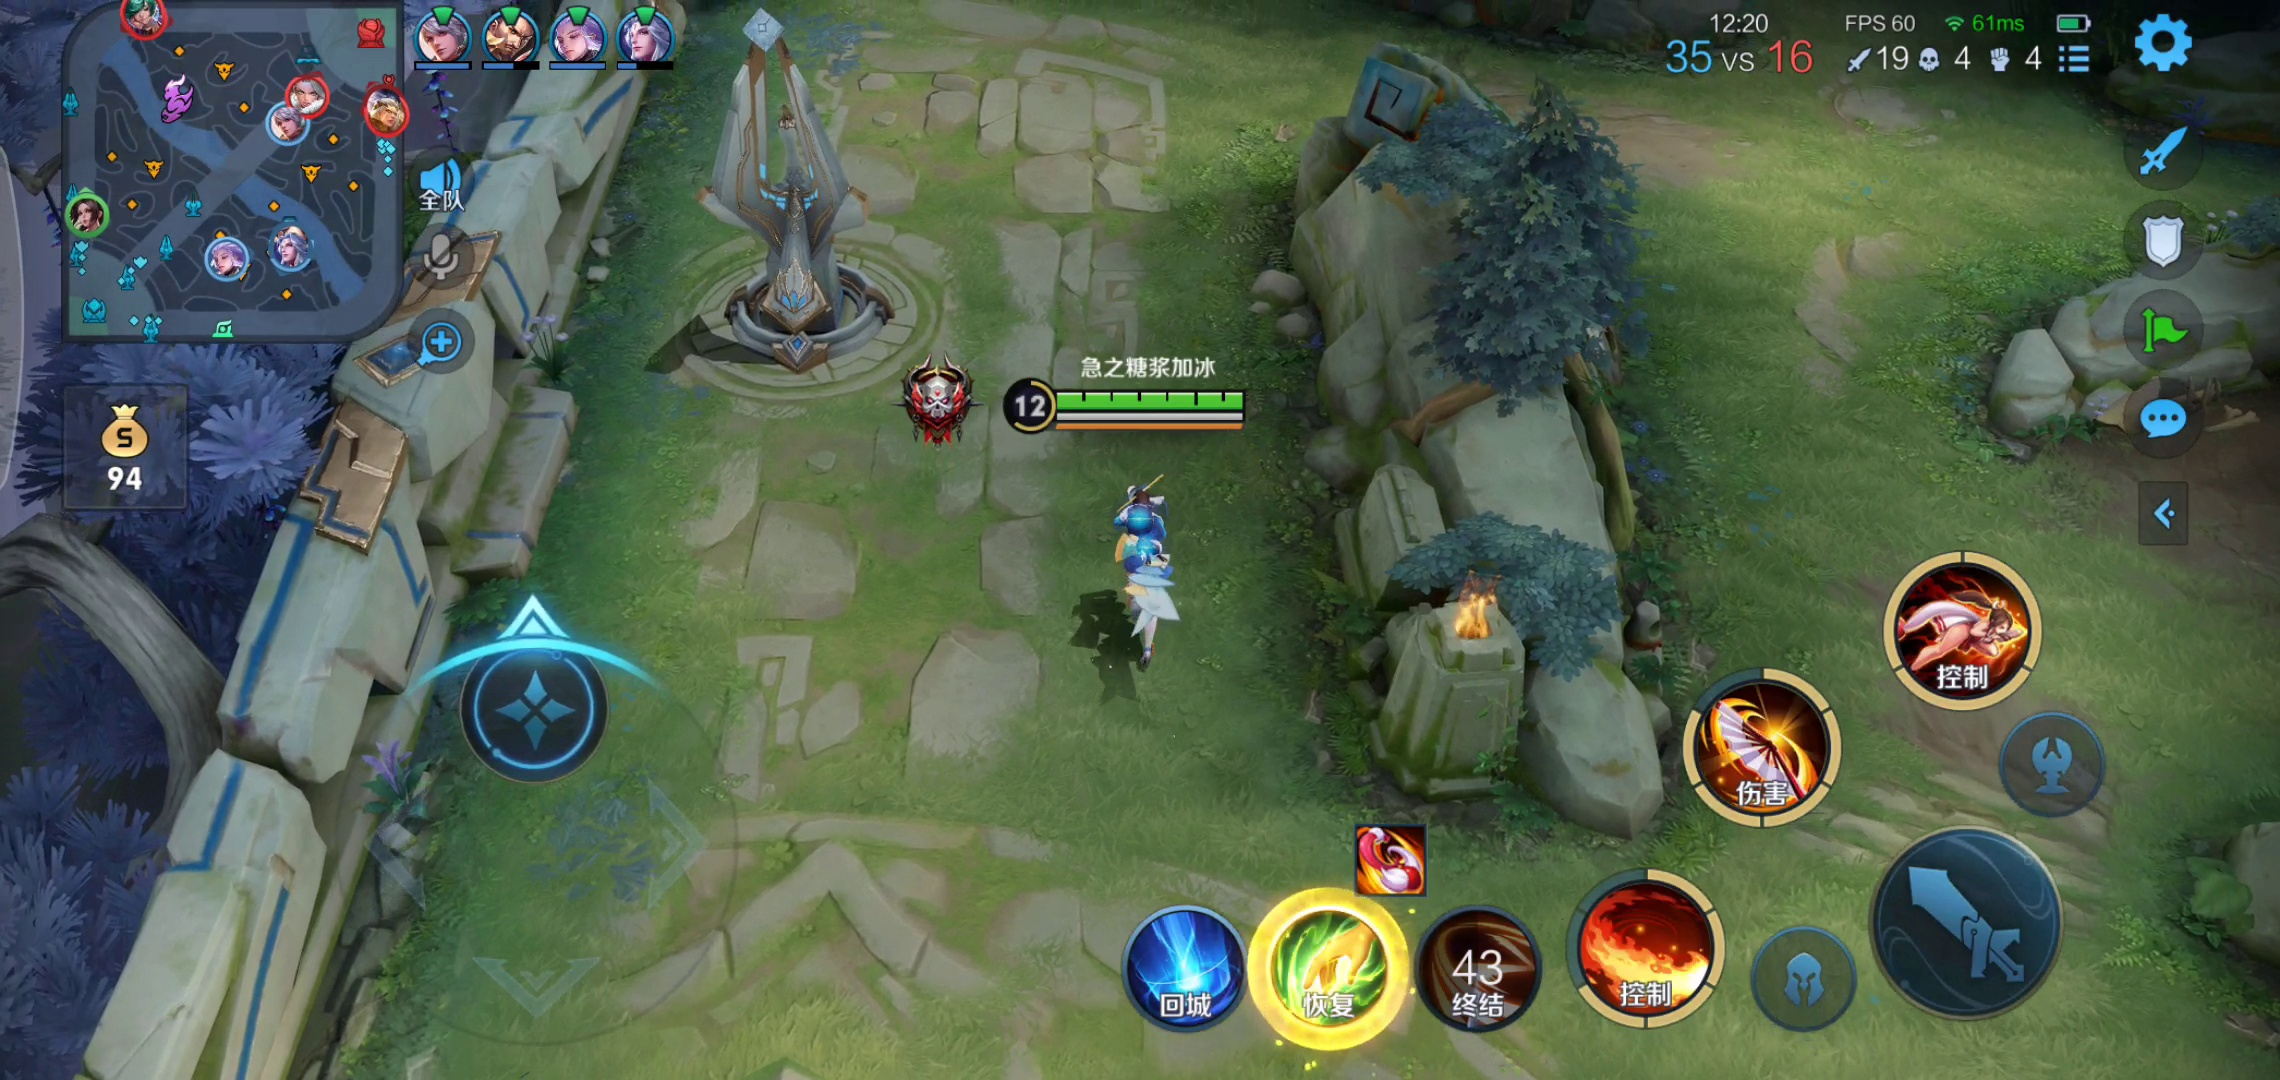hero: (1076, 472, 1213, 669)
tower: (670, 17, 904, 384)
